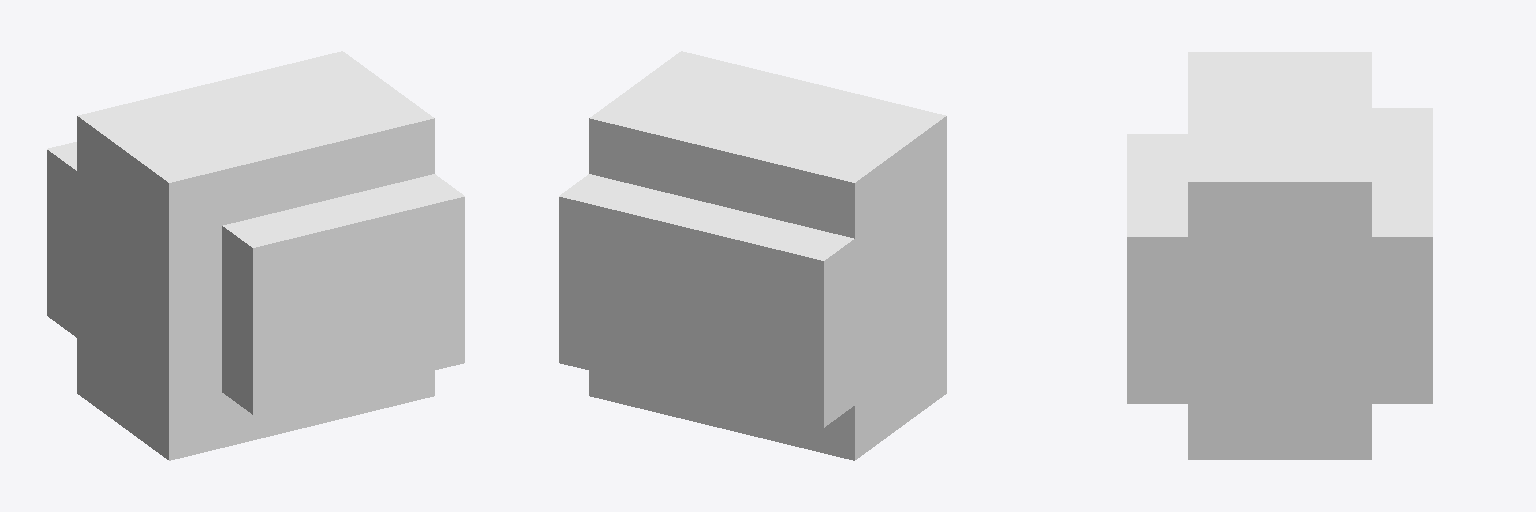
File: enemy-4.obj
3 renders of one model, left to right at view 1: azimuth 30°, elevation 25°; view 2: azimuth 150°, elevation 25°; view 3: azimuth 270°, elevation 25°, orthographic.
Parts seen in each view (by area): view 1: object 1; view 2: object 1; view 3: object 1.
Part boxes in pixels (left/top/right/bottom): object 1: left=47, top=51, right=464, bottom=460; object 1: left=559, top=51, right=946, bottom=460; object 1: left=1127, top=52, right=1432, bottom=459.
Bounding box in the file's own units: 1 × 1 × 1.